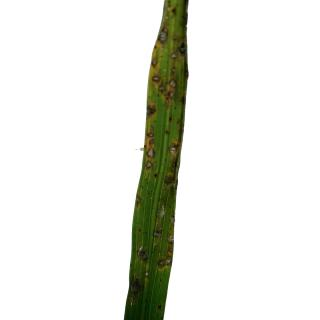Blast: (145, 108, 177, 184), (158, 24, 185, 104), (143, 102, 159, 126), (157, 247, 171, 273), (135, 244, 152, 265), (155, 204, 167, 222), (167, 142, 179, 158), (144, 145, 157, 159), (152, 226, 163, 242), (166, 78, 177, 93), (158, 28, 168, 44), (168, 51, 180, 62), (137, 194, 144, 208), (146, 129, 156, 138), (143, 269, 151, 280), (150, 58, 156, 72), (167, 234, 175, 244), (152, 76, 160, 83)
